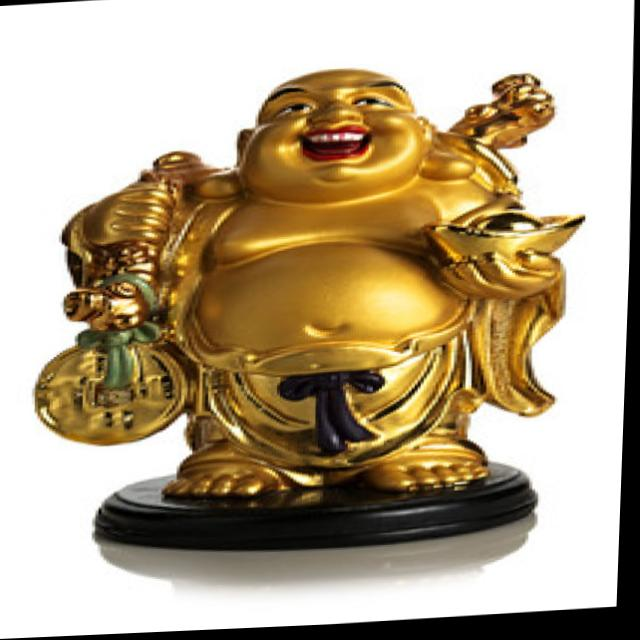Smiling Buddha: (106, 51, 549, 507)
